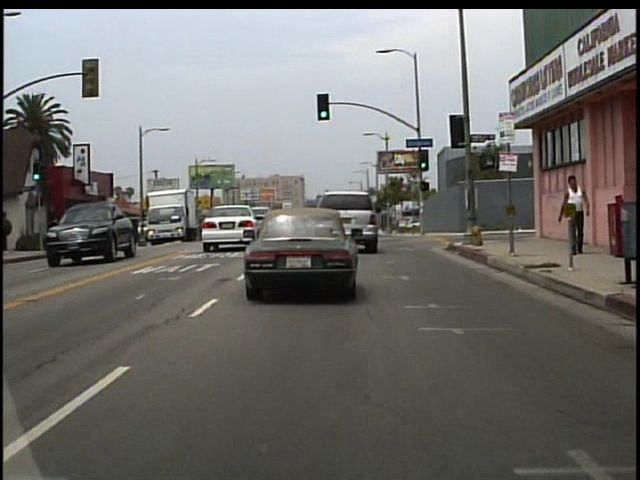person: (560, 171, 590, 258)
